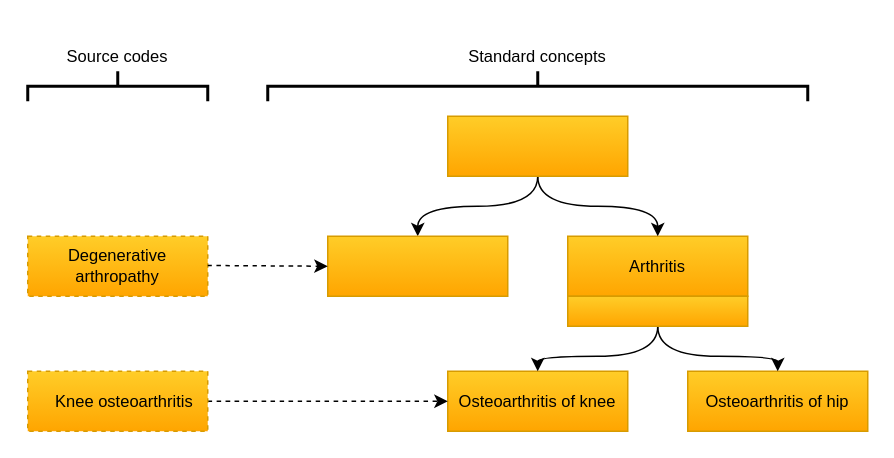
Image size: 894x458. Some labels were removed from this diagram. The centre of each missing label's shape, as x and y in pixels:
"Musculoskeletal disorder" belongs at (537,145).
"Osteoarthrosis" belongs at (417,265).
"Synonym: Osteoarthrosis" belongs at (657,310).
